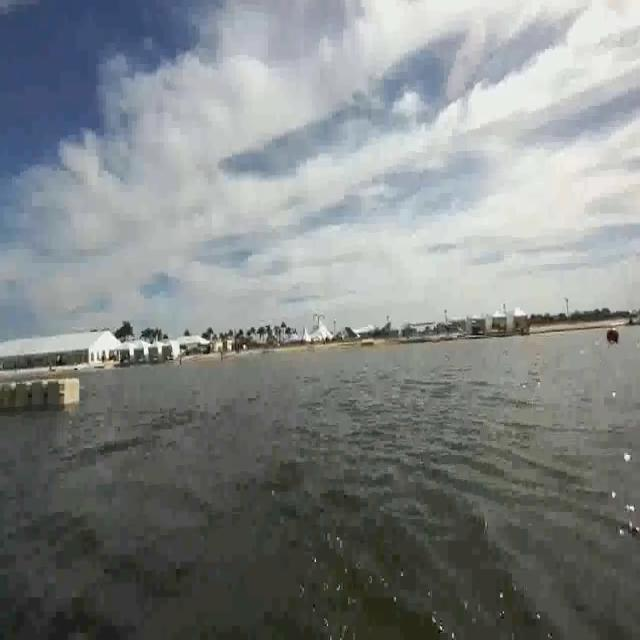red-buoy: (605, 321, 618, 342)
